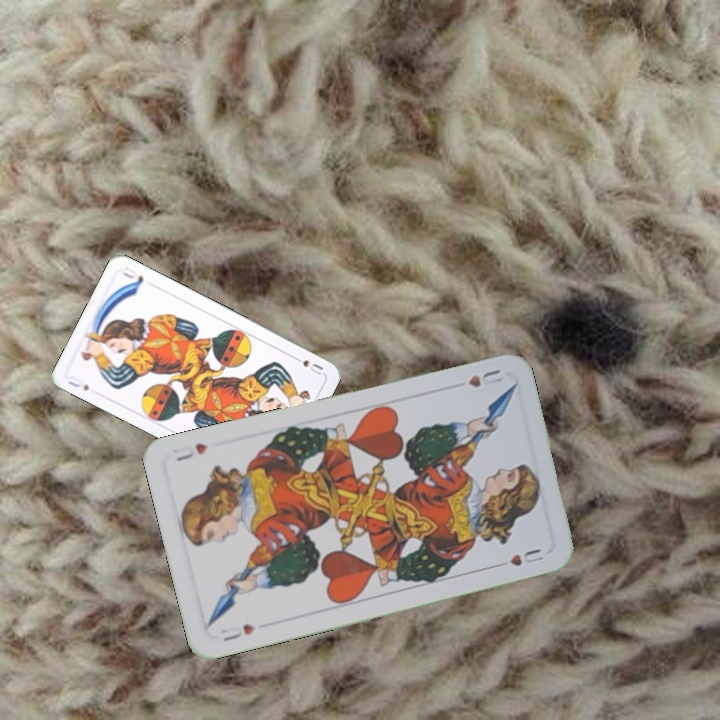HU: (464, 365, 506, 390), (216, 620, 258, 644)
SU: (288, 352, 326, 378), (64, 371, 91, 393)
